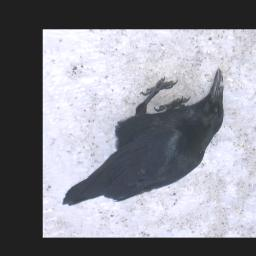Crow: (60, 69, 223, 206)
